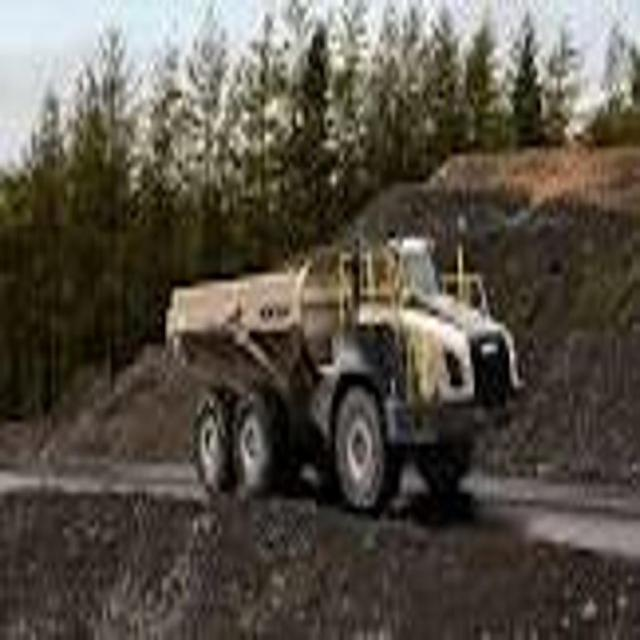dump_truck: (163, 220, 524, 526)
